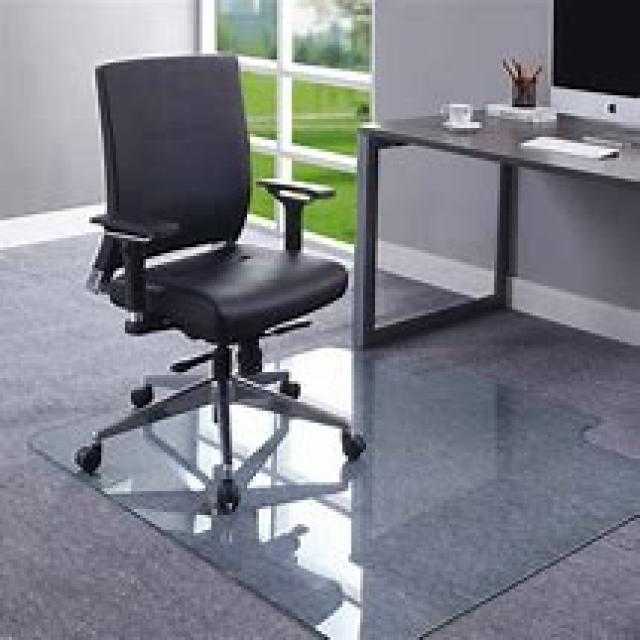chair: (72, 51, 366, 515)
